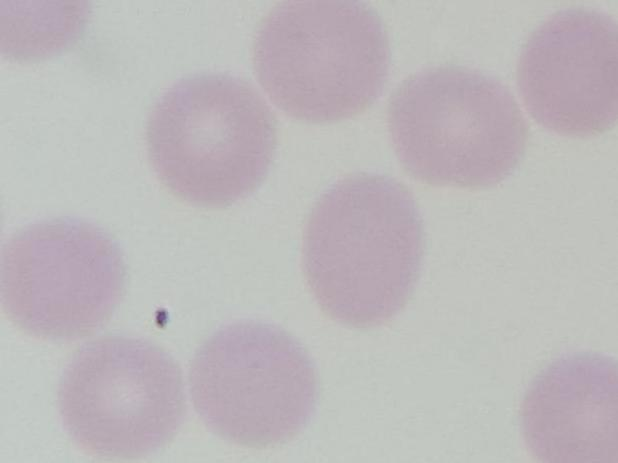Uninfected: (302, 174, 430, 334), (251, 3, 400, 125), (190, 320, 324, 452), (152, 70, 277, 206), (391, 68, 525, 189), (59, 338, 186, 463), (1, 218, 128, 338), (519, 7, 618, 142), (521, 350, 618, 463)
